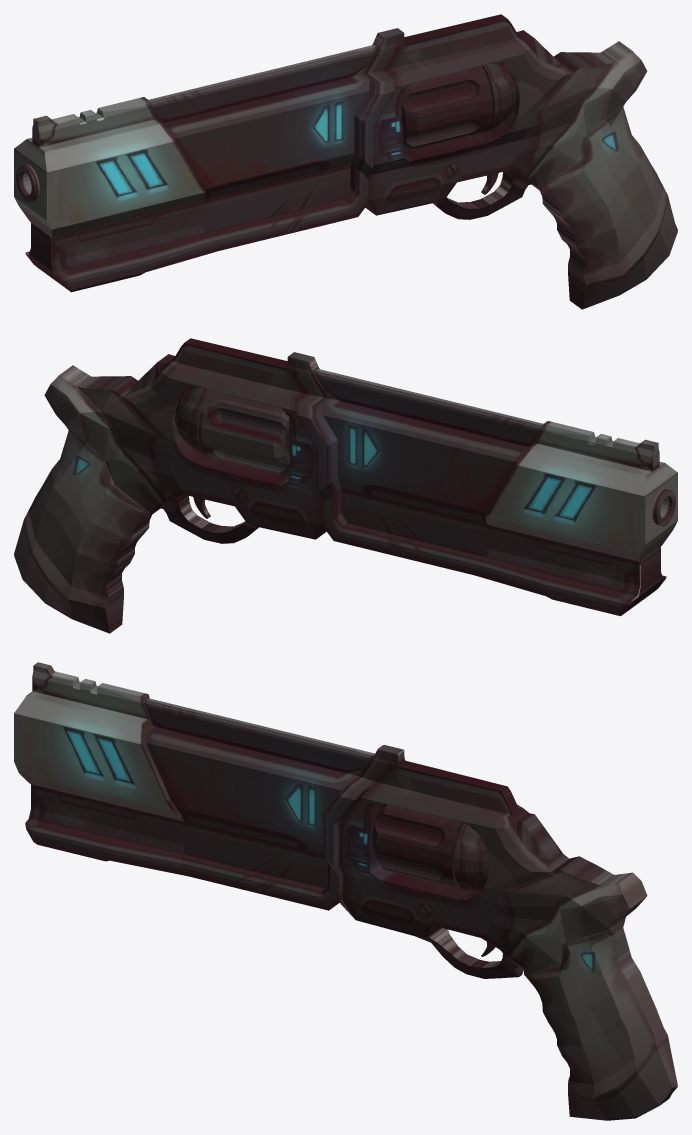
The model's file is Revolver.fbx.
3 views of the same model, one above another, from view 1: azimuth 30°, elevation 25°; view 2: azimuth 150°, elevation 25°; view 3: azimuth 330°, elevation 25° (orthographic).
Parts seen in each view (by area): view 1: RevolverShape; view 2: RevolverShape; view 3: RevolverShape.
Part boxes in pixels (left/top/right/bottom): RevolverShape: left=14, top=14, right=677, bottom=309; RevolverShape: left=14, top=338, right=677, bottom=633; RevolverShape: left=14, top=662, right=677, bottom=1120.
Bounding box in the file's own units: 22.95 × 10.67 × 2.55.
Materials: 4 (4 with a texture image).
